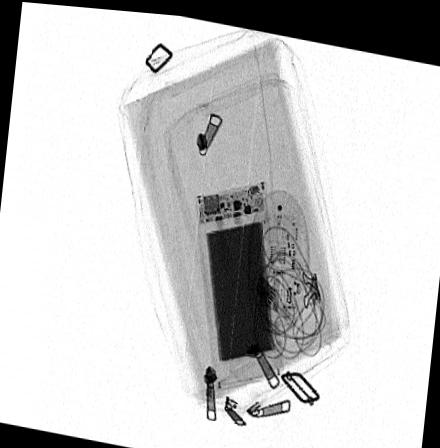Powerbank: (195, 173, 284, 385)
